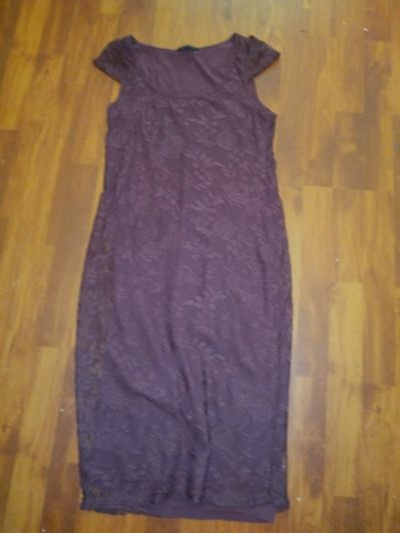Dress: (52, 30, 309, 525)
